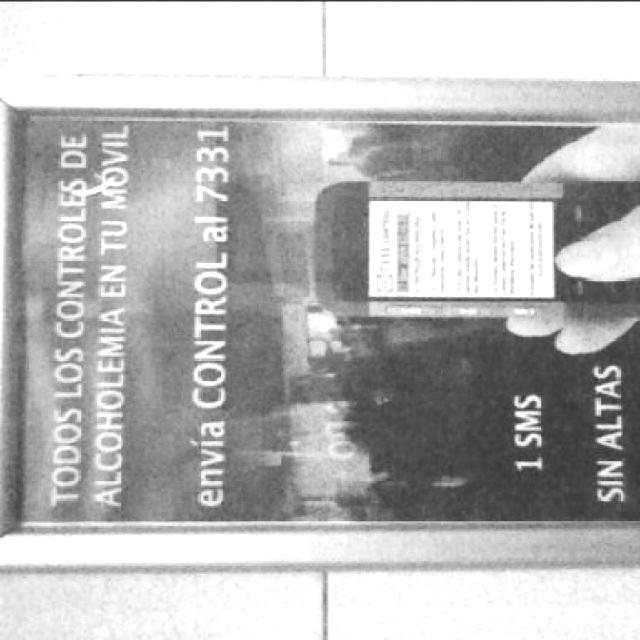fake: (316, 178, 639, 320)
